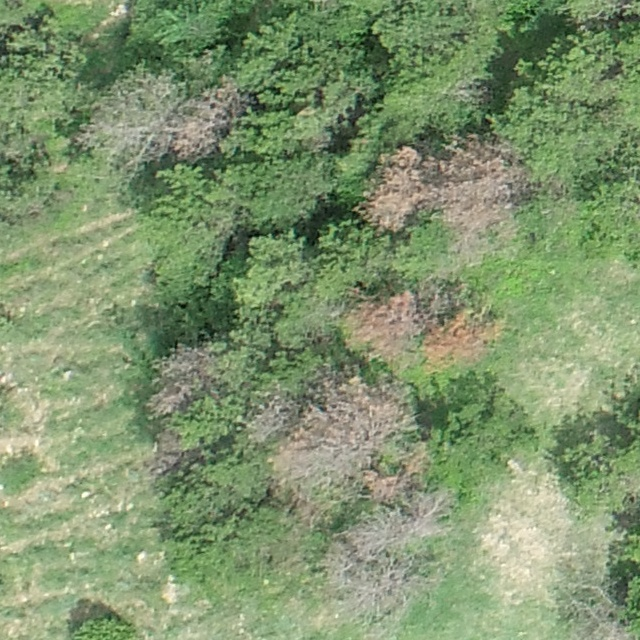unhealthy: (299, 375, 411, 471), (433, 137, 530, 234), (79, 70, 177, 158), (172, 80, 248, 160), (361, 147, 429, 232), (348, 290, 420, 358), (427, 313, 496, 367), (147, 342, 214, 385), (344, 514, 404, 558), (356, 564, 407, 612), (249, 393, 295, 443), (407, 490, 452, 538), (576, 602, 632, 637), (150, 432, 185, 476), (366, 471, 410, 504), (148, 386, 191, 418)
